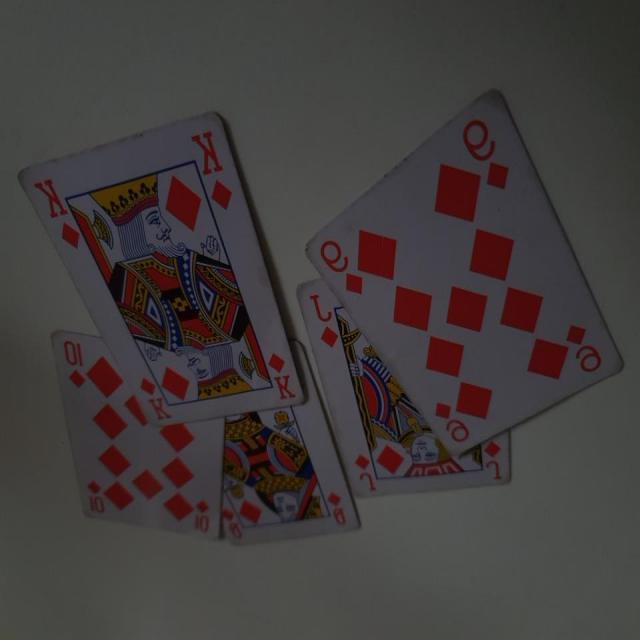10 of diamonds: (48, 328, 224, 540)
9 of diamonds: (302, 83, 628, 457)
jack of diamonds: (296, 278, 510, 500)
king of diamonds: (18, 107, 306, 430)
queen of diamonds: (222, 346, 362, 546)
